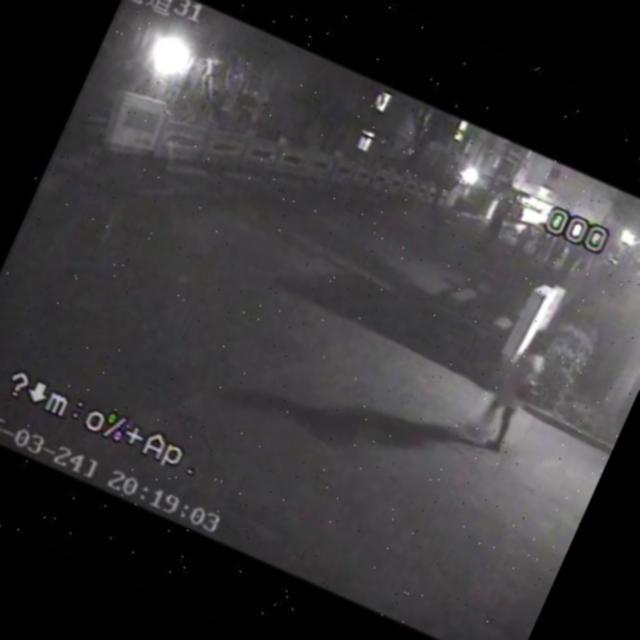person: (462, 313, 567, 459), (504, 218, 544, 268), (476, 208, 511, 257)
